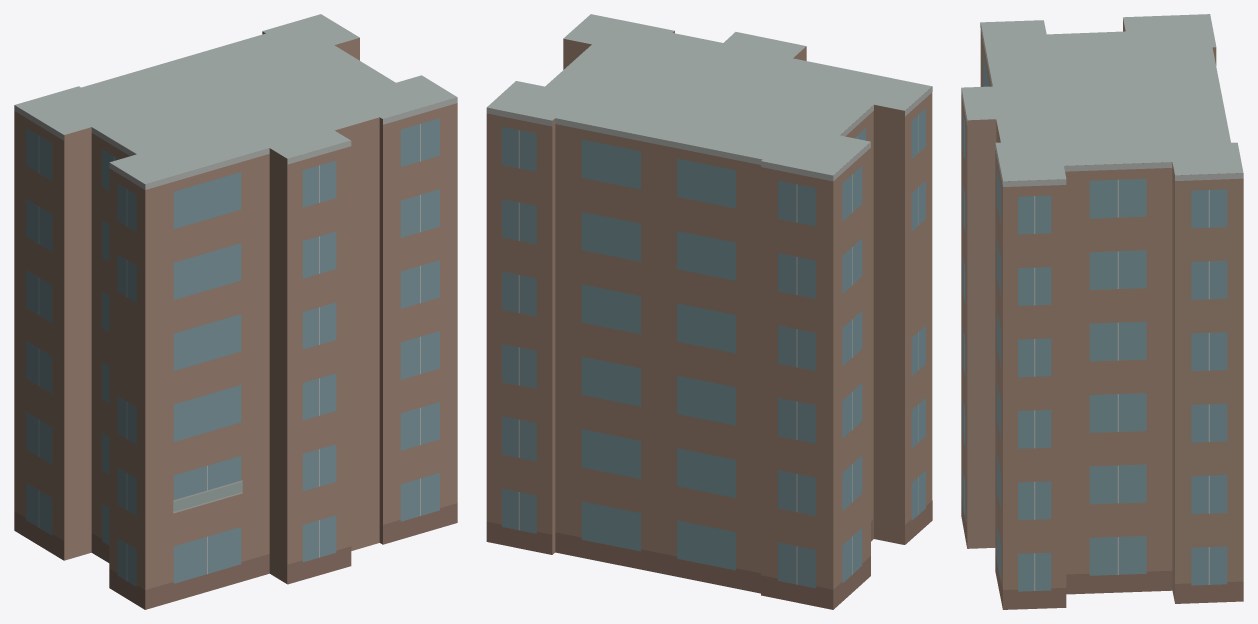
Rendered from survey-upis-32743359.glb.
The picture shows the model from 3 angles, left to right: view 1: azimuth 30°, elevation 25°; view 2: azimuth 150°, elevation 25°; view 3: azimuth 270°, elevation 25°; orthographic projection. The views are drawn at different scales.
Parts seen in each view (by area): view 1: survey-upis-32743359.tmp; view 2: survey-upis-32743359.tmp; view 3: survey-upis-32743359.tmp.
Part boxes in pixels (box(x1,y1,x2,y2)): survey-upis-32743359.tmp: box(14, 14, 457, 609); survey-upis-32743359.tmp: box(486, 14, 932, 609); survey-upis-32743359.tmp: box(961, 14, 1243, 609).
Bounding box in the file's own units: 15.08 × 18 × 10.75.
